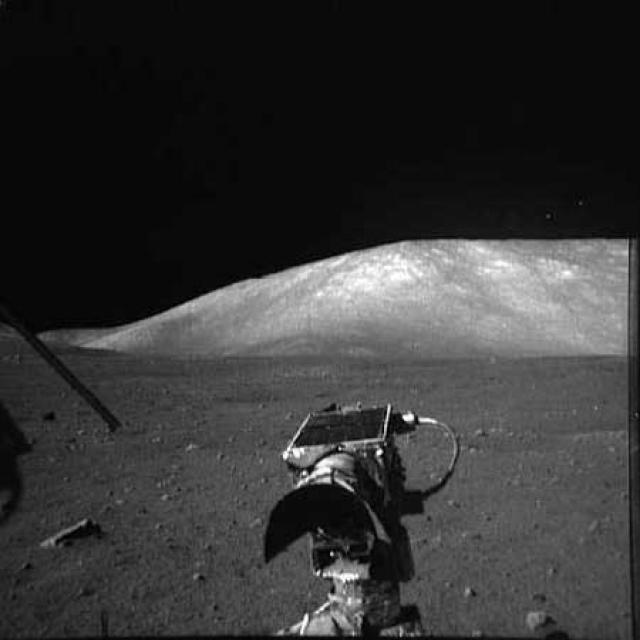artifact: (257, 387, 471, 639), (0, 307, 127, 441)
rock: (32, 511, 109, 551), (511, 600, 555, 630)
